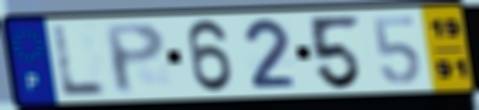2: (241, 16, 302, 93)
5: (304, 13, 364, 91), (370, 14, 423, 86)
6: (185, 18, 235, 95)
L: (51, 23, 111, 99)
P: (101, 21, 169, 97)
